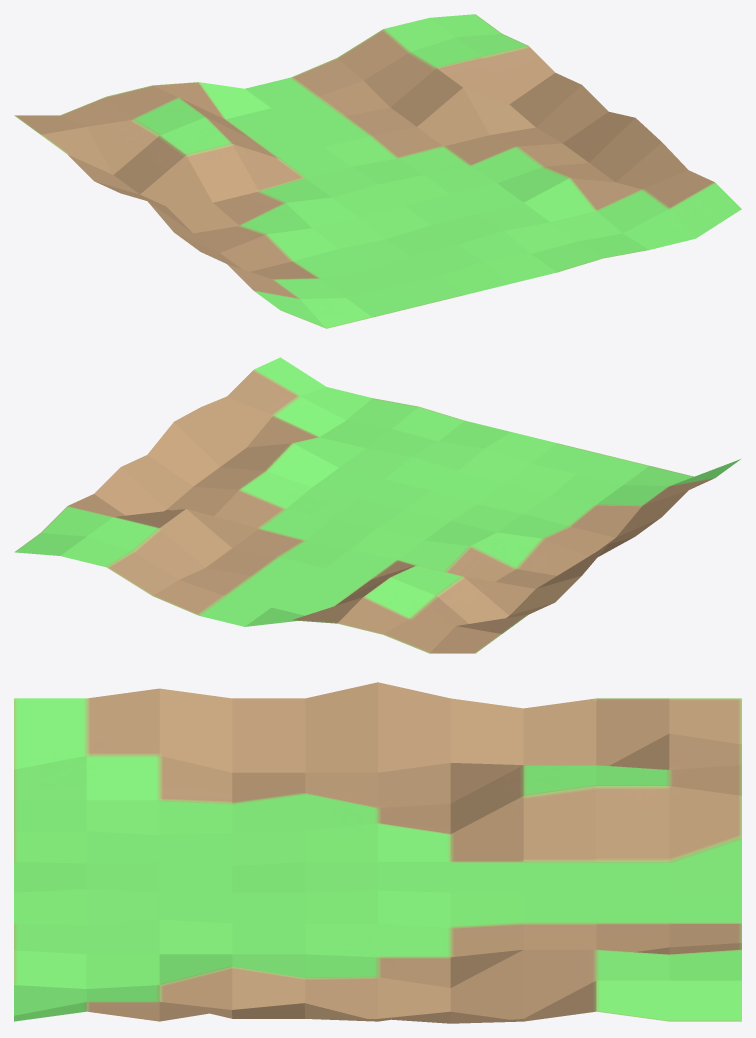
File: Environment.fbx
3 views of the same model, one above another, from view 1: azimuth 30°, elevation 25°; view 2: azimuth 150°, elevation 25°; view 3: azimuth 270°, elevation 25° (orthographic). The views are drawn at different scales.
Visible parts, largest first — view 1: pPlane1; view 2: pPlane1; view 3: pPlane1.
Part boxes in pixels (x1,y1,x2,y2): pPlane1: (14,14,741,328); pPlane1: (14,357,740,653); pPlane1: (14,682,741,1023).
Size of the model in its own units: 110 by 10.78 by 110.
